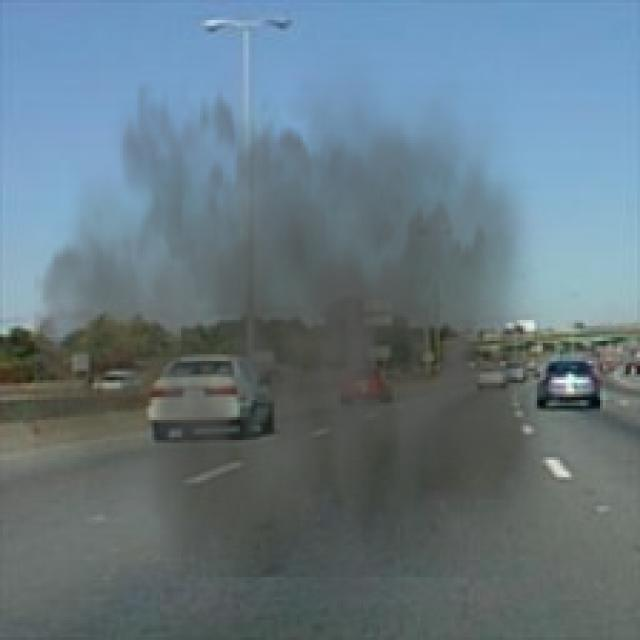smoke: (34, 32, 563, 577)
